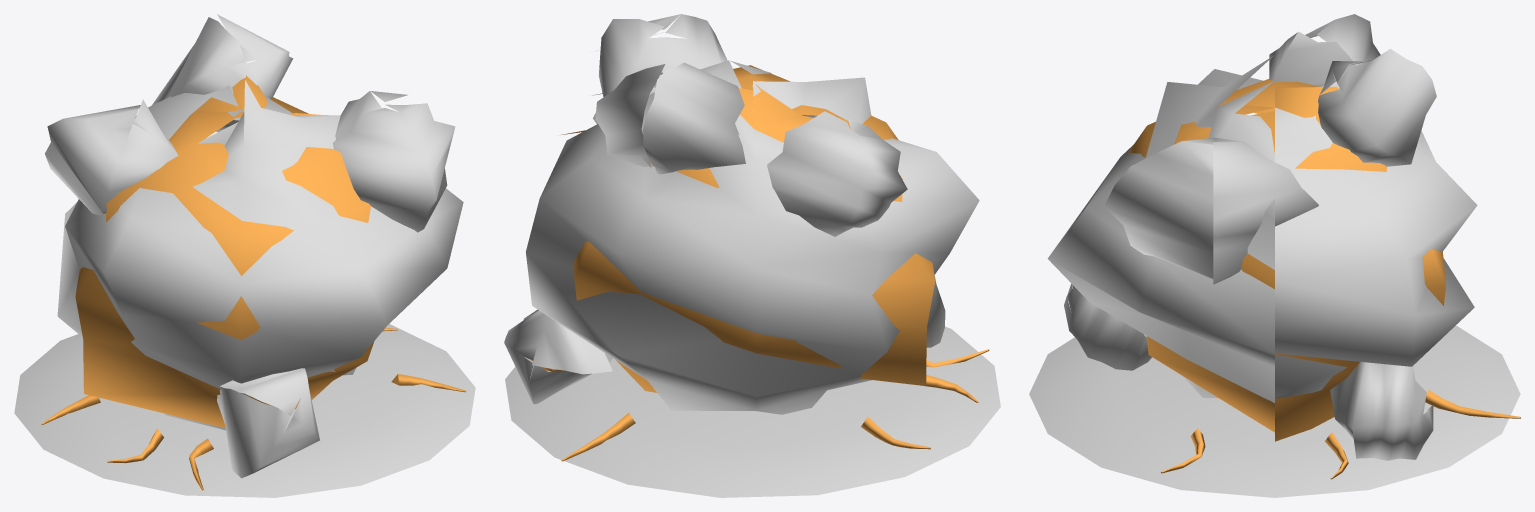
File: MeteorRock.glb
3 views of the same model, side by side, from view 1: azimuth 30°, elevation 25°; view 2: azimuth 150°, elevation 25°; view 3: azimuth 270°, elevation 25° (orthographic). The views are drawn at different scales.
Parts seen in each view (by area): view 1: Body, Lava; view 2: Body, Lava; view 3: Body, Lava.
Part boxes in pixels (left/top/right/bottom): Body: left=14, top=14, right=475, bottom=497; Lava: left=41, top=75, right=466, bottom=490; Body: left=504, top=14, right=1000, bottom=497; Lava: left=531, top=65, right=989, bottom=461; Body: left=1029, top=14, right=1520, bottom=497; Lava: left=1128, top=79, right=1520, bottom=479.
Bounding box in the file's own units: 8.34 × 6.45 × 8.
